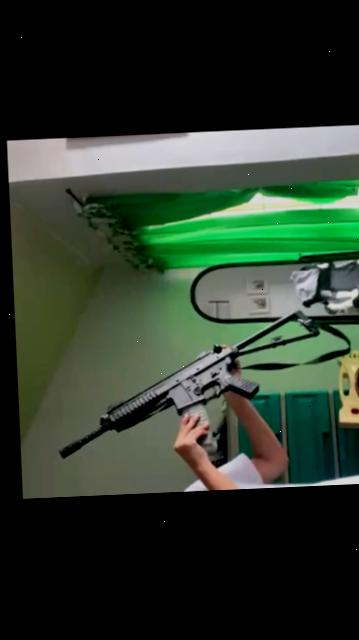rifle: (47, 303, 346, 463)
